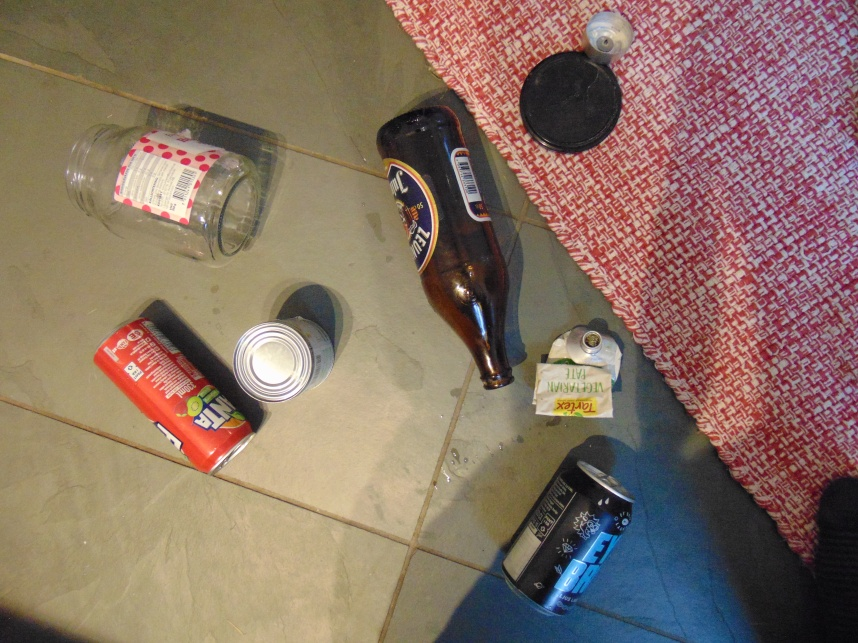glass_bottle: (376, 105, 516, 391), (66, 122, 264, 264)
metal: (520, 52, 624, 153), (533, 326, 624, 420), (584, 11, 635, 61)
metal_can: (93, 314, 255, 476), (501, 459, 635, 621), (234, 317, 335, 403)
